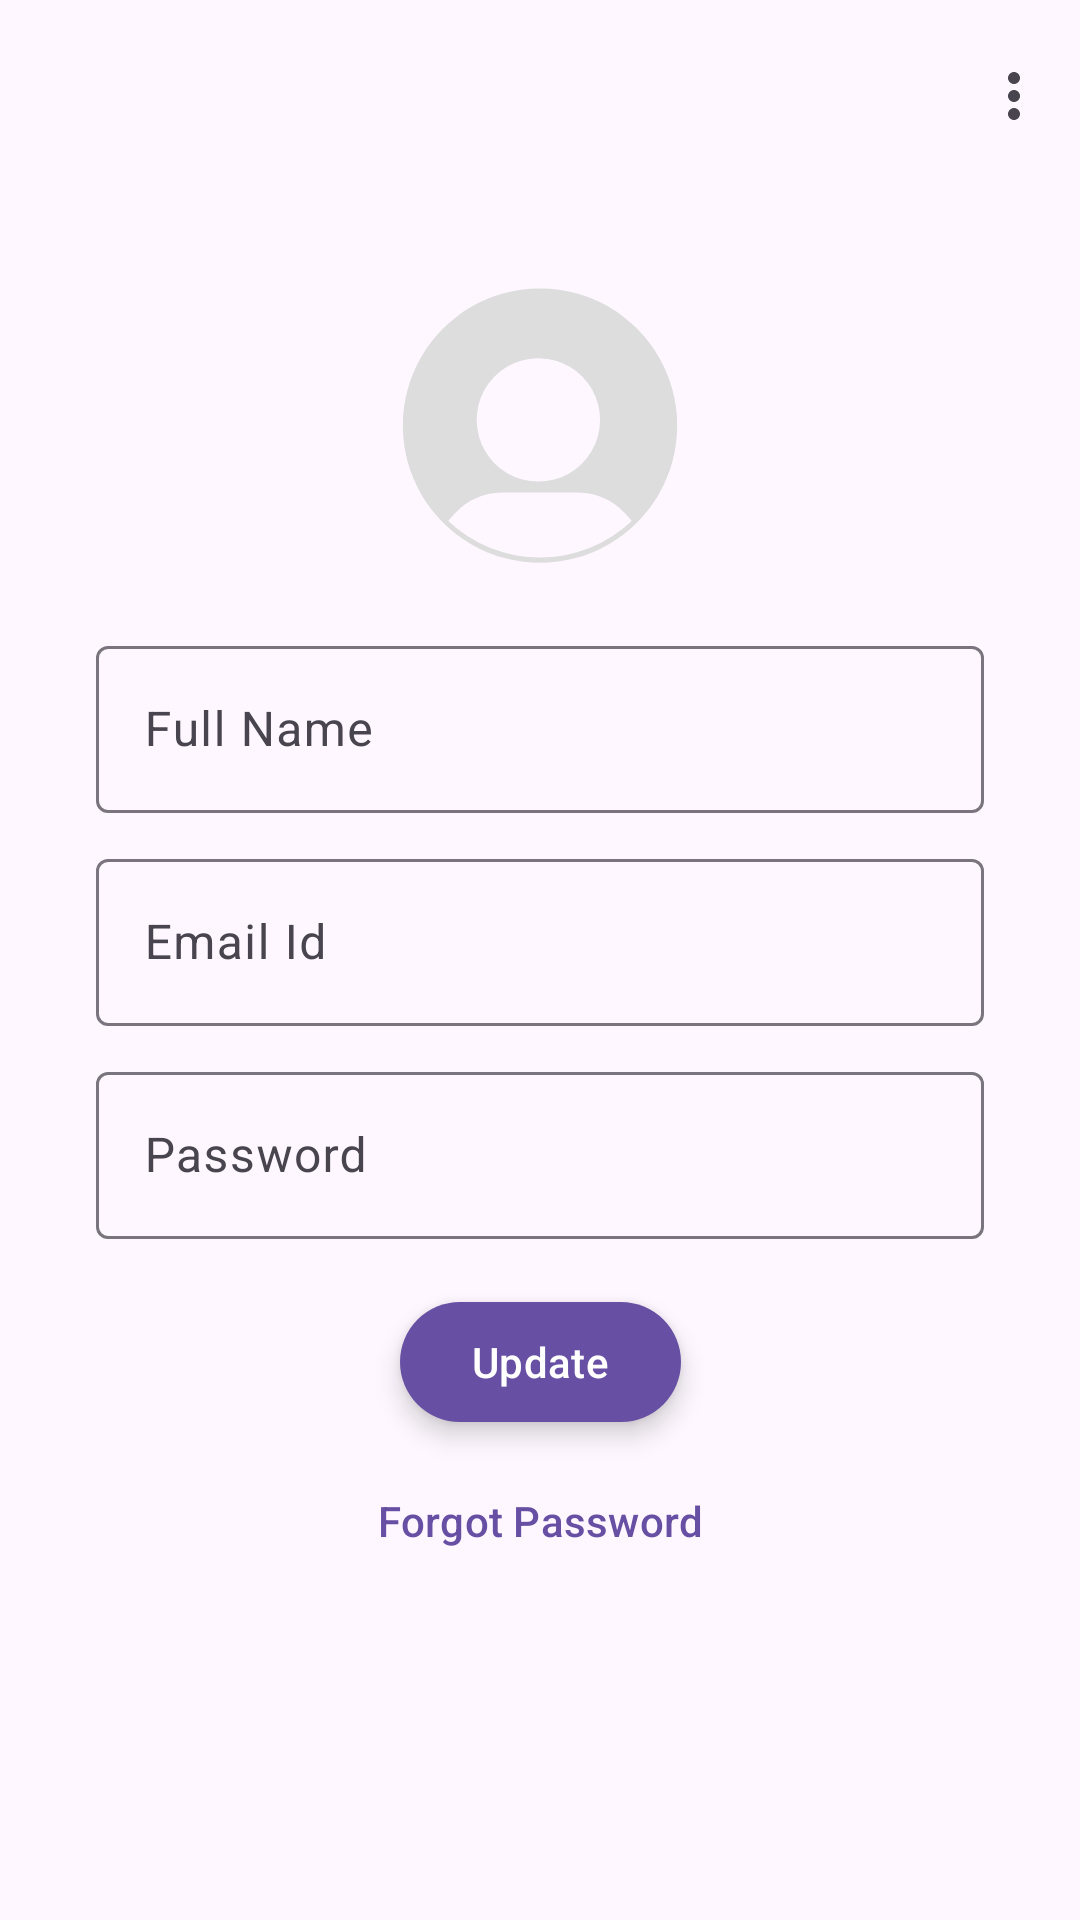

Icon click points for this 1080 x 1920 phone screenshot, format [x,y]:
user: [540,426]
